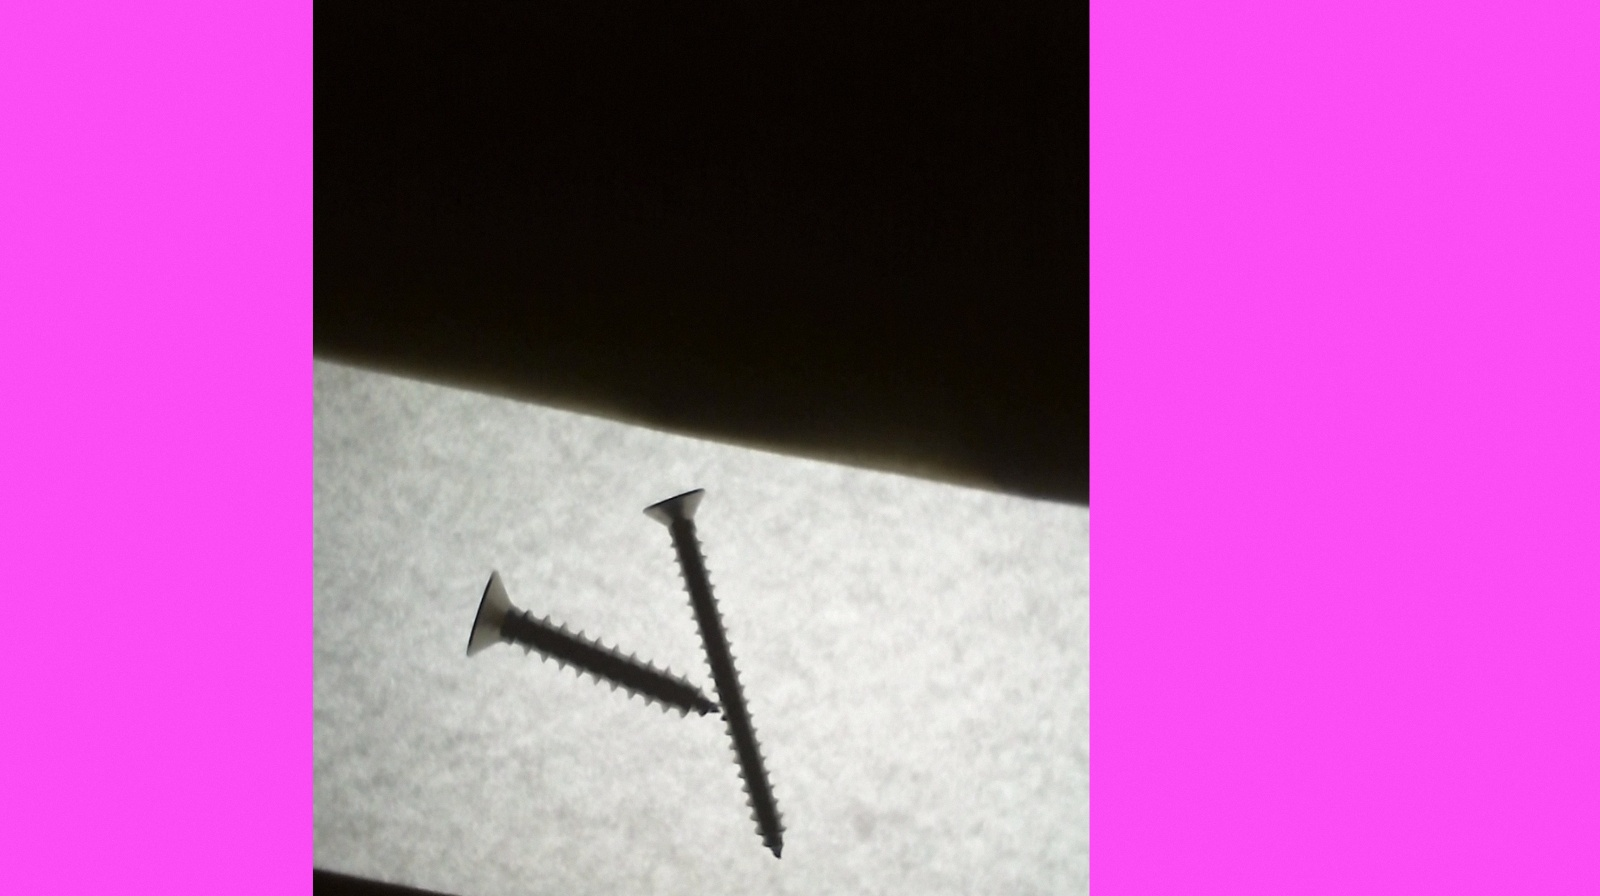S001: (463, 564, 721, 721)
S002: (637, 478, 786, 858)
